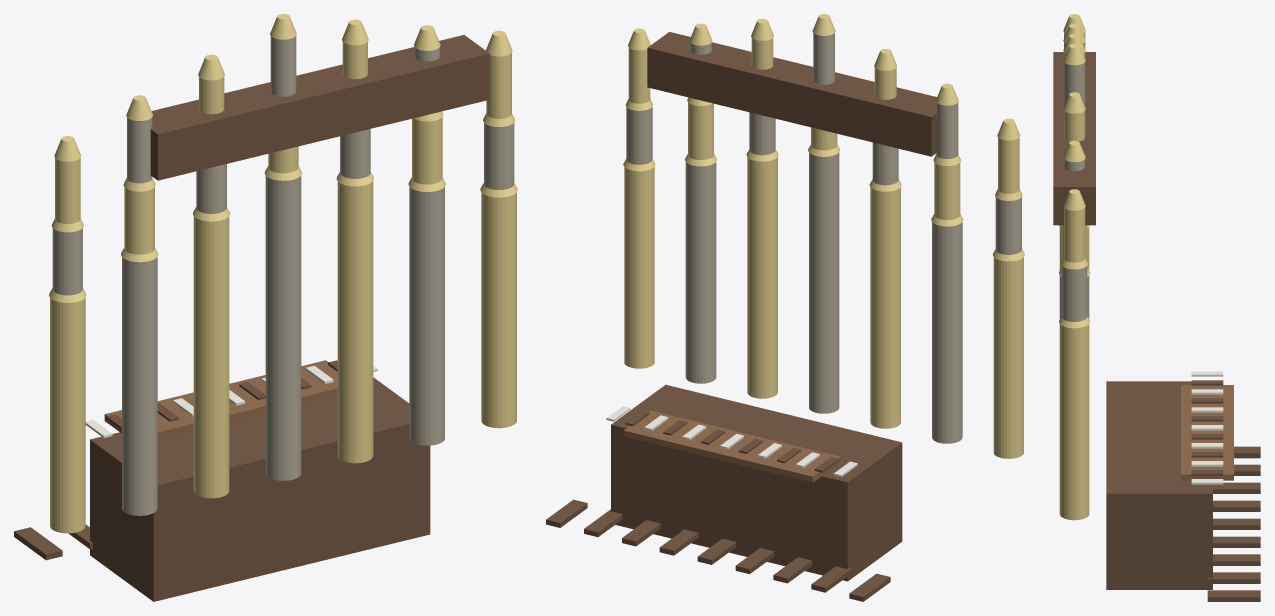
Rendered from PipeOrganCathedral.fbx.
3 renders of one model, left to right at view 1: azimuth 30°, elevation 25°; view 2: azimuth 150°, elevation 25°; view 3: azimuth 270°, elevation 25°, orthographic. The views are drawn at different scales.
Parts seen in each view (by area): view 1: PipeOrganCathedral; view 2: PipeOrganCathedral; view 3: PipeOrganCathedral.
Boxes of the visible parts, x1=… form: PipeOrganCathedral: x1=14, y1=14, x2=517, y2=601; PipeOrganCathedral: x1=546, y1=14, x2=1024, y2=601; PipeOrganCathedral: x1=1053, y1=14, x2=1260, y2=601.
Bounding box in the file's own units: 419 × 494 × 195.
